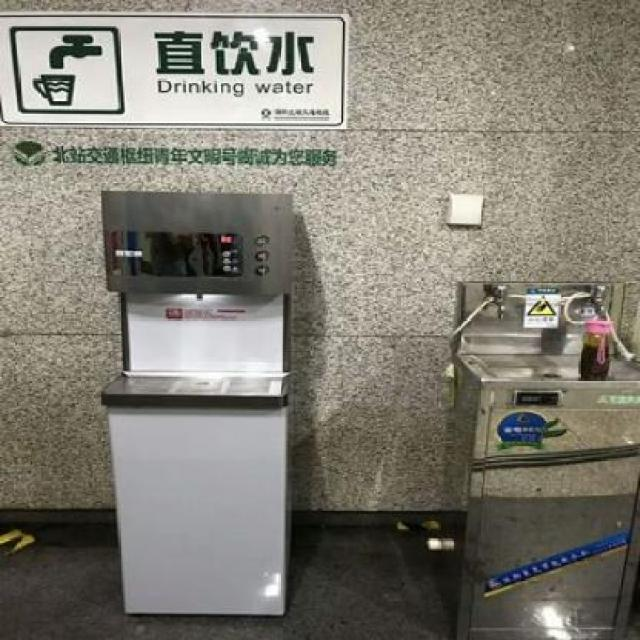cooler: (97, 185, 303, 613), (455, 272, 640, 638)
